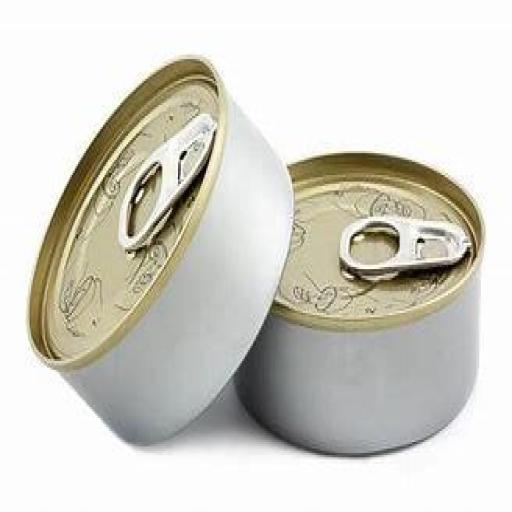can: (25, 50, 296, 450), (234, 151, 487, 459)
pop tab: (118, 110, 214, 256), (339, 212, 468, 283)
